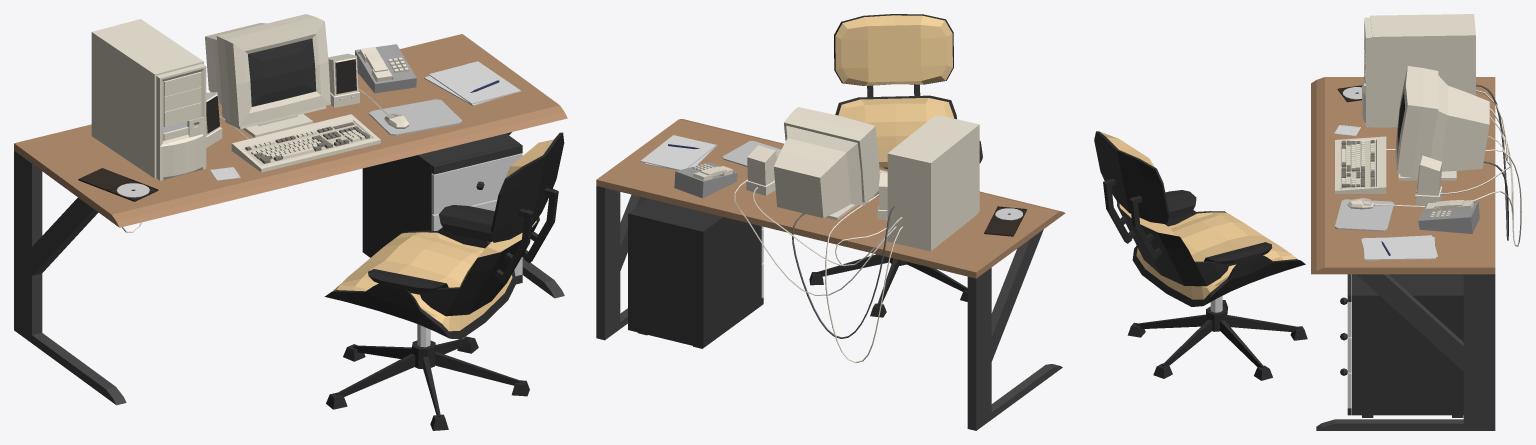
The model's file is DeskAndComputer.fbx.
The picture shows the model from 3 angles, left to right: view 1: azimuth 30°, elevation 25°; view 2: azimuth 150°, elevation 25°; view 3: azimuth 270°, elevation 25°; orthographic projection. The views are drawn at different scales.
Parts seen in each view (by area): view 1: Office_desk, Cube.000, Computer_case, Computer_monitor.001, Drawers, Keyboard, Paper2, Mousepad, Phone_stand, SpeakerL, CD_case, SpeakerR (+1 smaller); view 2: Office_desk, Drawers, Cube.000, Computer_case, Computer_monitor.001, Paper2, SpeakerL, Phone_stand, CD_case, Monitor_cable, KeyboardCable, Mousepad (+2 smaller); view 3: Office_desk, Cube.000, Drawers, Computer_case, Computer_monitor.001, Keyboard, Paper2, Mousepad, Phone_stand, SpeakerL, Monitor_cable, KeyboardCable (+1 smaller).
Boxes of the visible parts, <box> form: Office_desk: <box>14,34,567,405</box>; Cube.000: <box>324,132,564,430</box>; Computer_case: <box>91,19,206,180</box>; Computer_monitor.001: <box>205,14,330,137</box>; Drawers: <box>362,133,522,284</box>; Keyboard: <box>231,114,380,172</box>; Paper2: <box>428,61,521,104</box>; Mousepad: <box>369,99,462,135</box>; Phone_stand: <box>355,44,416,93</box>; SpeakerL: <box>328,53,359,107</box>; CD_case: <box>78,168,158,201</box>; SpeakerR: <box>206,92,222,147</box>; Office_desk: <box>596,119,1065,430</box>; Drawers: <box>628,198,763,348</box>; Cube.000: <box>809,14,982,317</box>; Computer_case: <box>887,115,979,251</box>; Computer_monitor.001: <box>774,107,879,220</box>; Paper2: <box>640,135,716,170</box>; SpeakerL: <box>746,145,776,195</box>; Phone_stand: <box>674,162,737,198</box>; CD_case: <box>984,206,1026,236</box>; Monitor_cable: <box>792,206,894,338</box>; KeyboardCable: <box>825,194,902,362</box>; Mousepad: <box>722,141,781,166</box>; Office_desk: <box>1311,77,1495,430</box>; Cube.000: <box>1094,131,1307,380</box>; Drawers: <box>1340,274,1463,417</box>; Computer_case: <box>1362,14,1475,127</box>; Computer_monitor.001: <box>1395,66,1489,180</box>; Keyboard: <box>1335,136,1386,193</box>; Paper2: <box>1363,237,1435,259</box>; Mousepad: <box>1335,199,1394,231</box>; Phone_stand: <box>1418,201,1479,233</box>; SpeakerL: <box>1415,155,1442,205</box>; Monitor_cable: <box>1476,84,1508,240</box>; KeyboardCable: <box>1386,108,1521,246</box>.
Size of the model in its own units: 188 by 116 by 178.
Materials: 2 (1 with a texture image).
